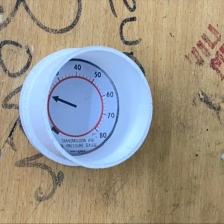gauge: (49, 58, 118, 155)
